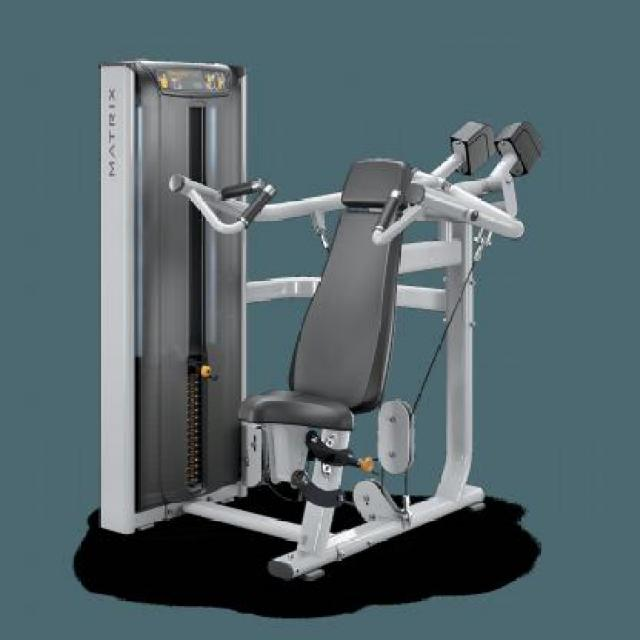shoulder press machine: (76, 46, 550, 592)
